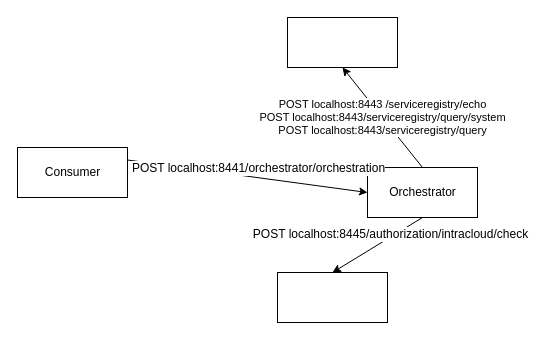
Some shapes in this 546 by 340 pixel diagram are drawn without their labels. Each missing label, with the centre of its shape:
Authorization System: the point at 332,297
Service Registry: the point at 342,42
